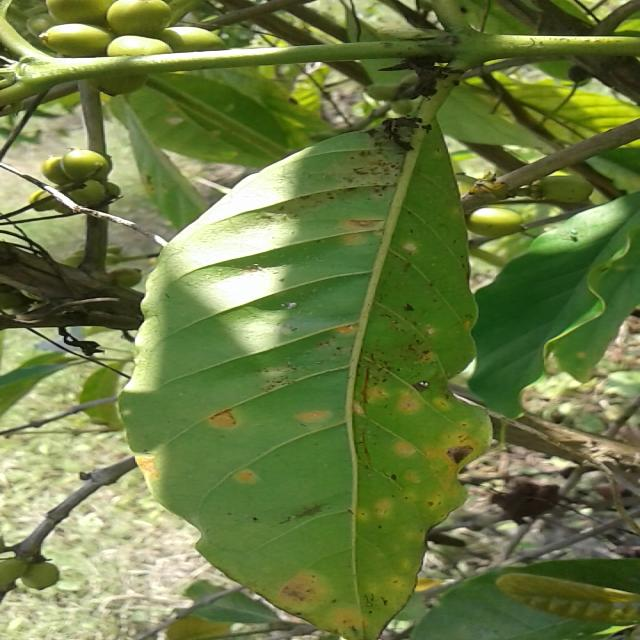Enfermedad-Roya: (118, 124, 491, 640)
